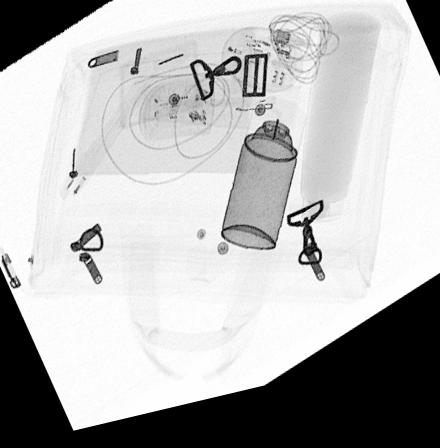Sprayer: (220, 110, 306, 263)
